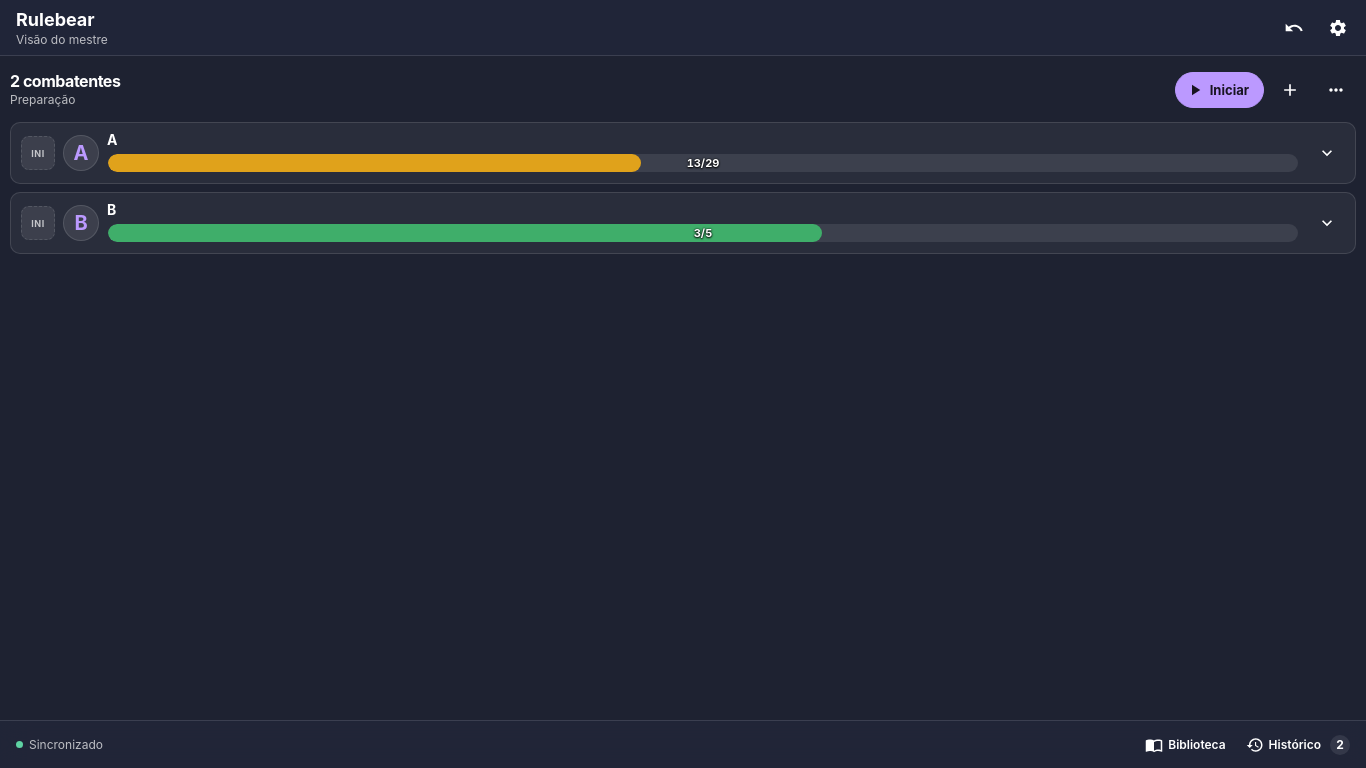
Test: painel de jogadores › edita a iniciativa no próprio cartão e segue para o próximo combatente
expect the heading "2 combatentes" is shown: met, box left=10, top=71, right=120, bottom=91
Click the button with aria-label "Editar iniciativa" at (38, 153), box left=21, top=136, right=55, bottom=170
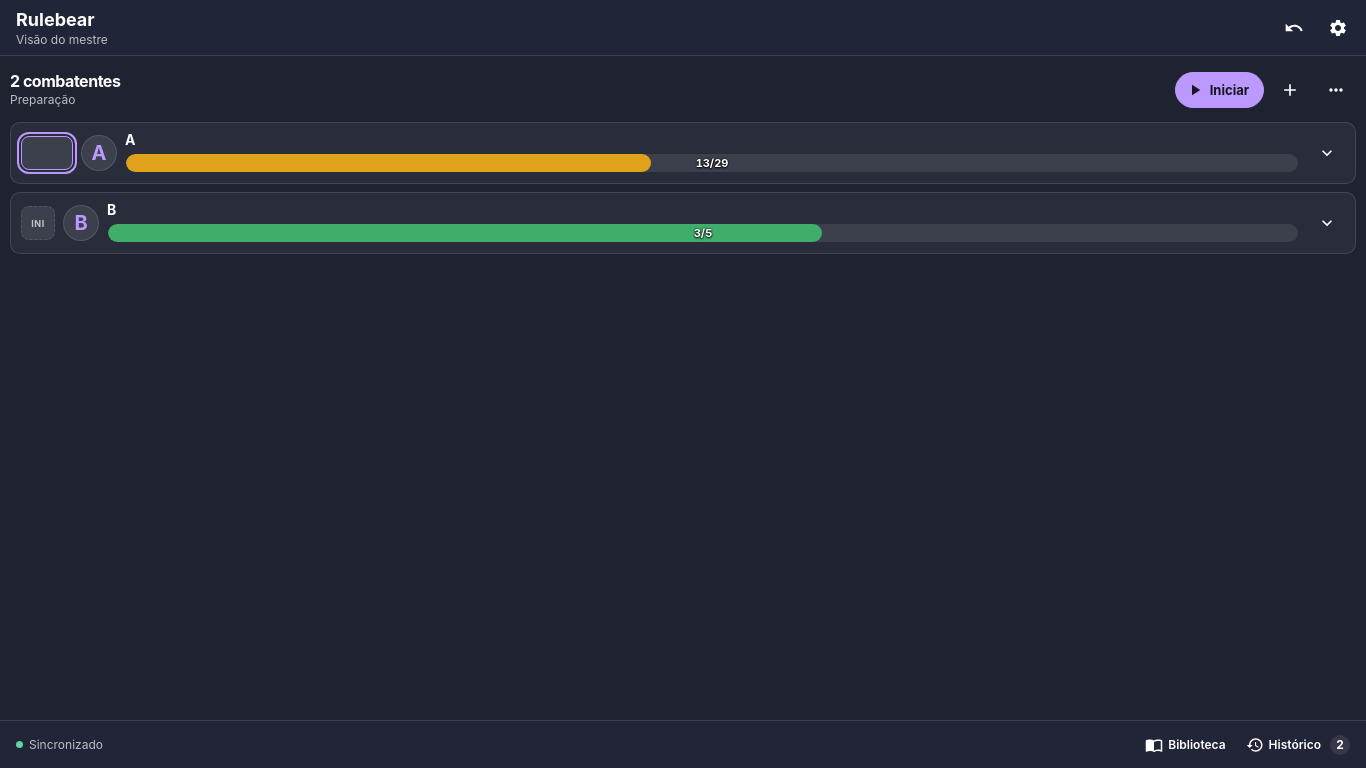
Type "15" into the number field named "Iniciativa" at (47, 153), box left=21, top=136, right=73, bottom=170
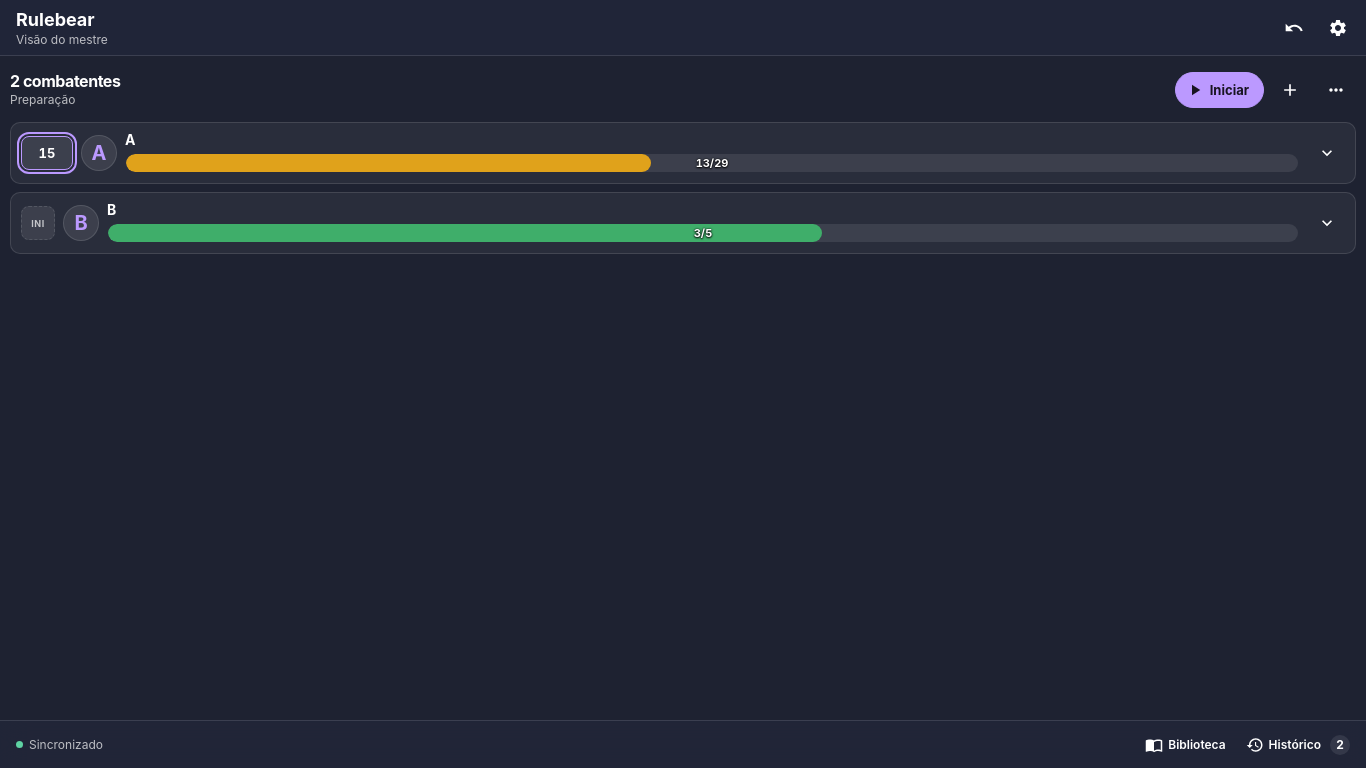
Press Enter in the number field named "Iniciativa", box left=21, top=136, right=73, bottom=170
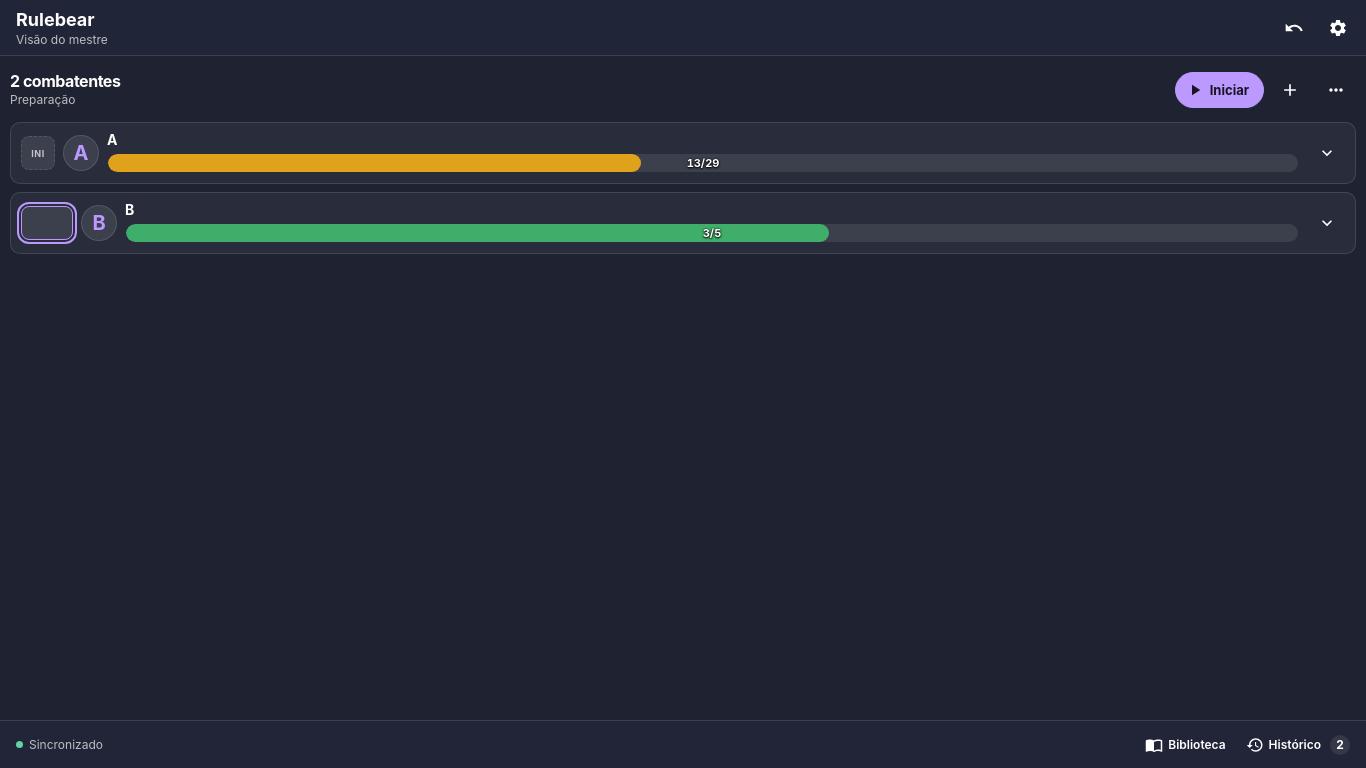
Press Escape in the number field named "Iniciativa", box left=21, top=206, right=73, bottom=240
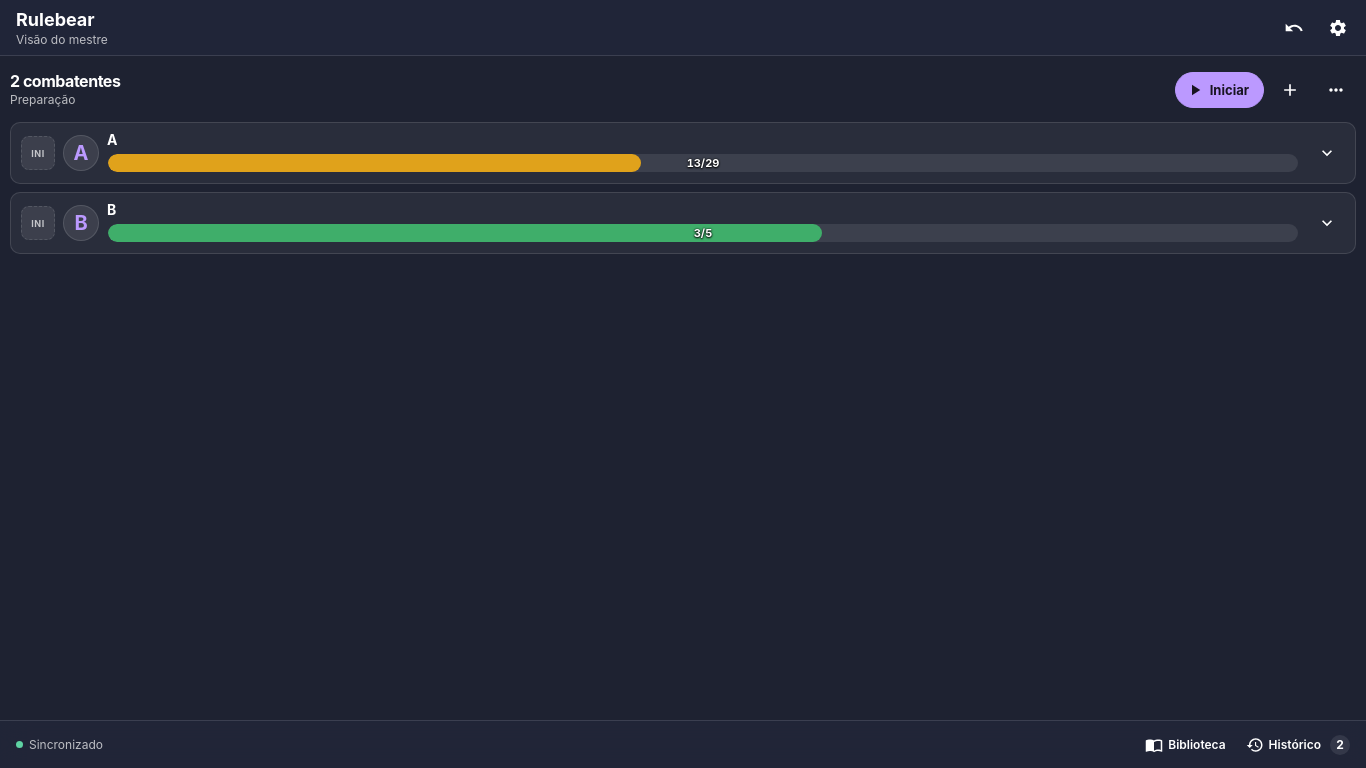
expect the number field labelled "Iniciativa" is gone: met
